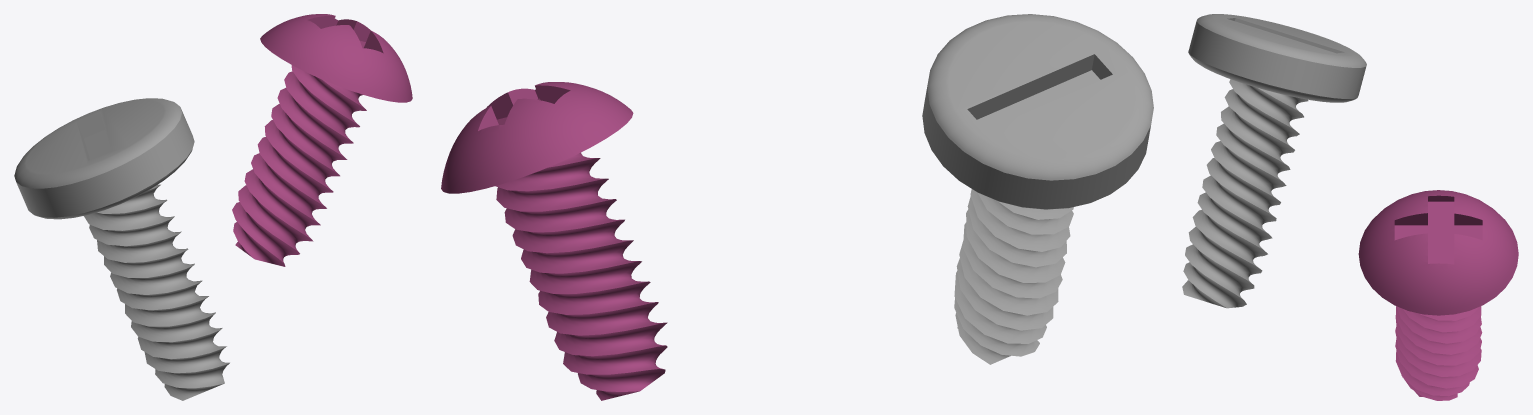
Rendered from zzz.glb.
The picture shows the model from 3 angles, left to right: view 1: azimuth 30°, elevation 25°; view 2: azimuth 150°, elevation 25°; view 3: azimuth 270°, elevation 25°; orthographic projection. The views are drawn at different scales.
Visible parts, largest first — view 1: Box001, Cylinder001, Box003, Sphere001; view 2: Cylinder001, Box003, Box001, Sphere001; view 3: Box001, Sphere001, Cylinder001, Box003.
Part boxes in pixels (<box>): Box001: <box>84,184,229,400</box>; Cylinder001: <box>14,98,194,219</box>; Box003: <box>232,65,366,266</box>; Sphere001: <box>260,14,412,102</box>; Cylinder001: <box>922,14,1153,209</box>; Box003: <box>495,152,667,400</box>; Box001: <box>954,189,1073,364</box>; Sphere001: <box>441,82,633,193</box>; Box001: <box>1182,79,1308,308</box>; Sphere001: <box>1358,190,1518,315</box>; Cylinder001: <box>1188,14,1366,102</box>; Box003: <box>1395,306,1482,400</box>.
Bounding box in the file's own units: 2.06 × 1.18 × 1.34.
